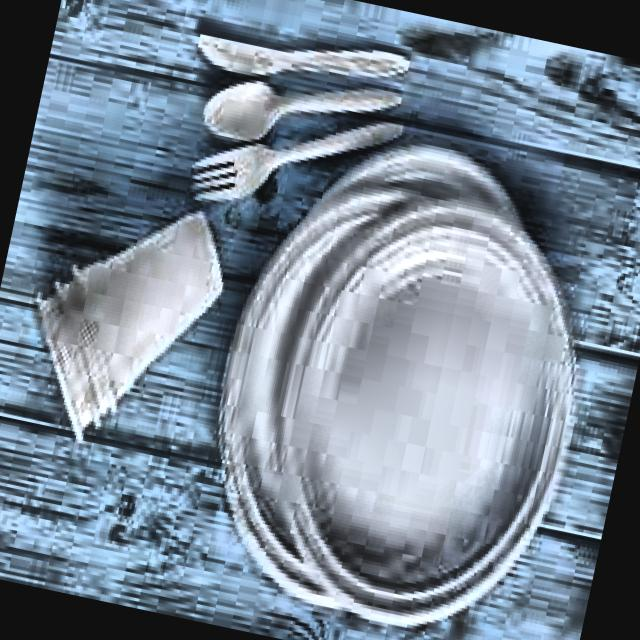plastic utensil: (193, 122, 402, 200), (203, 79, 398, 141), (197, 33, 406, 76)
